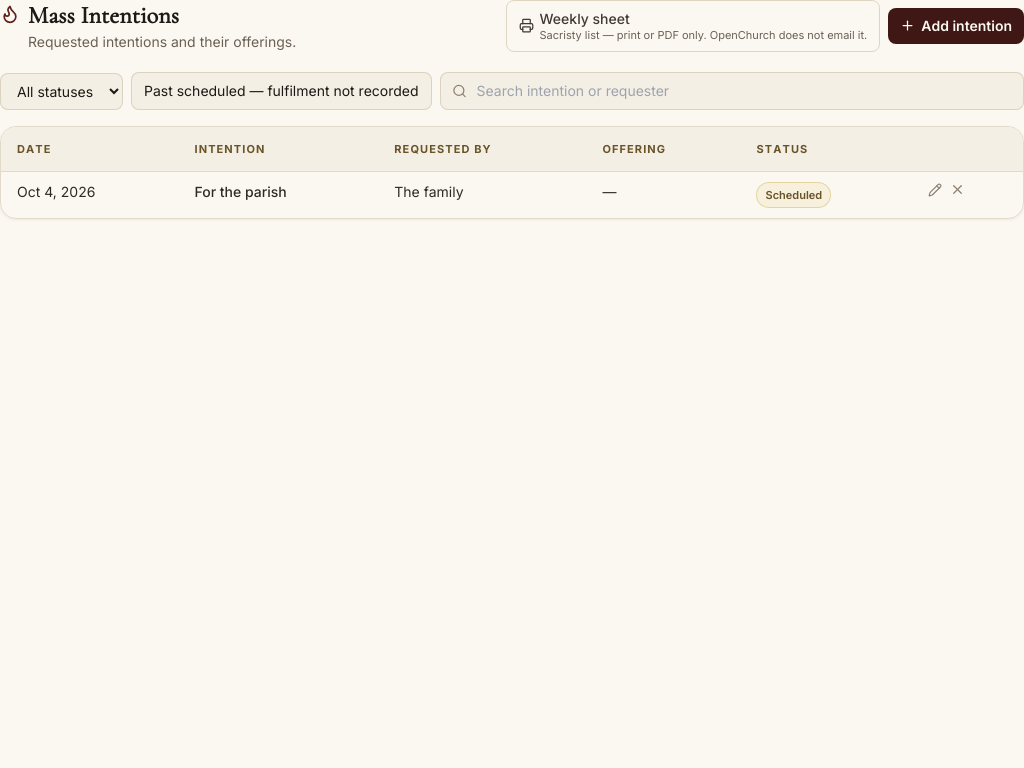
Assign dropdown follows the Mass date › a 409 says the date was not the Mass and that nothing was saved
The image size is (1024, 768).
What coordinates should you click on to do the following:
click the button named "edit intention"
I would click on:
 (935, 190)
Its box is [928, 182, 942, 196].
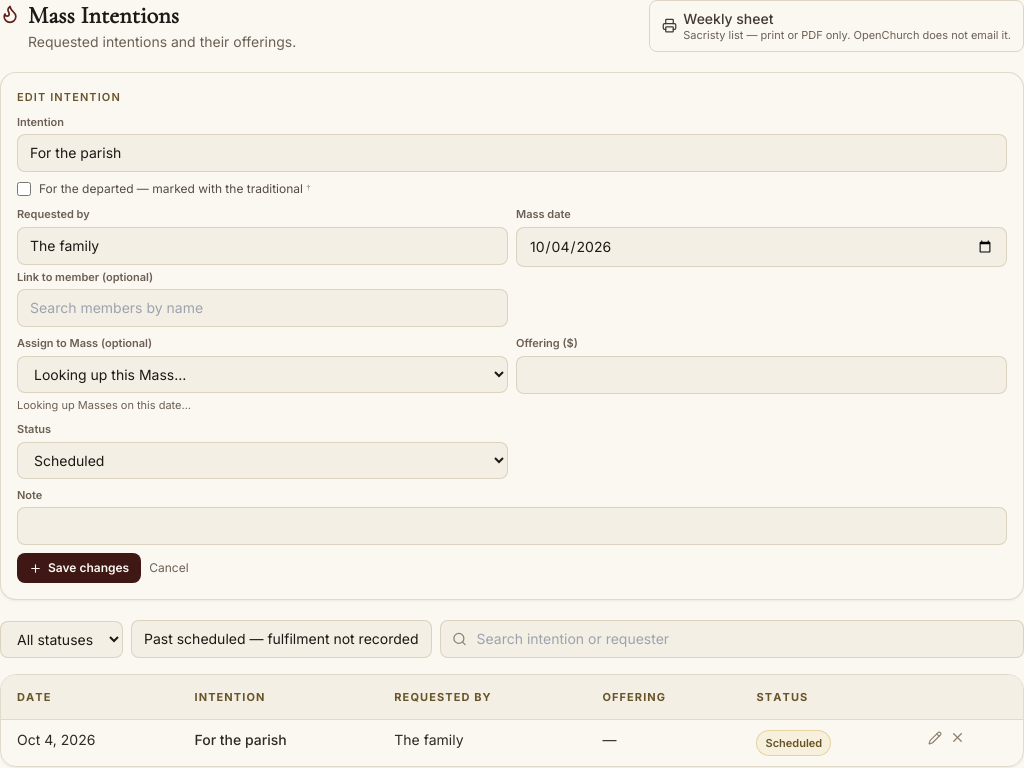
Now the dropdown labelled "Assign to Mass (optional)" shows "Looking up this Mass…", box [17, 356, 508, 392]
What coordinates should you click on to do the following:
click the button "Save changes"
I would click on:
 (79, 568)
Its box is [17, 553, 141, 583].
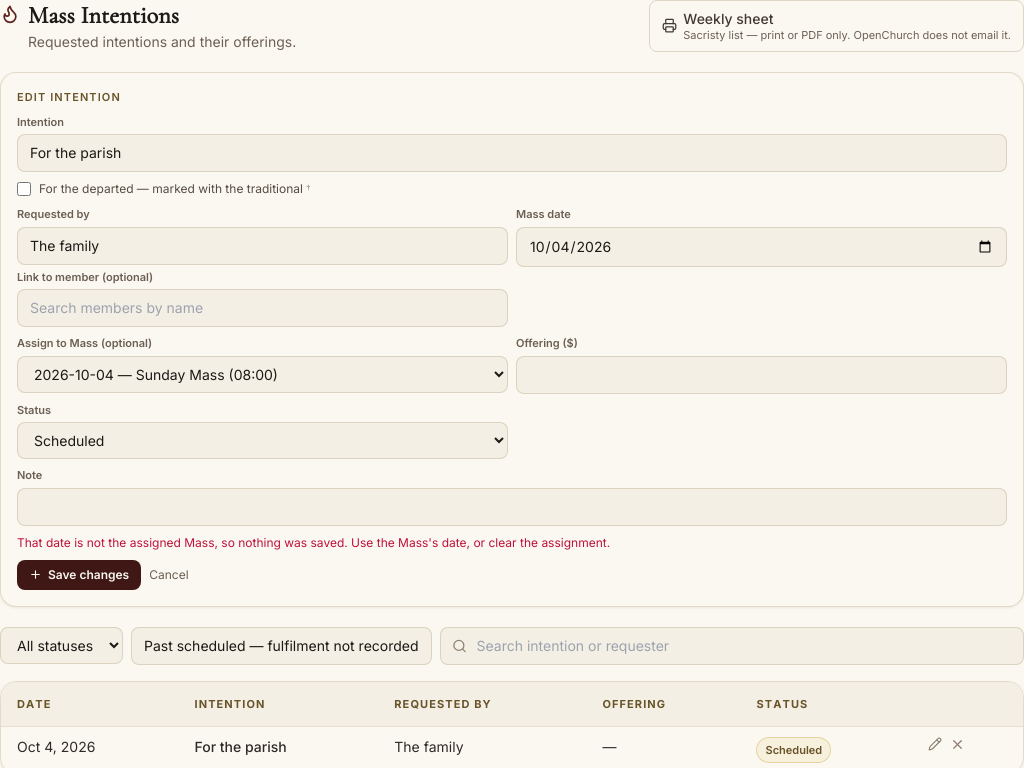
Now the field labelled "Intention" is shown, box [17, 134, 1007, 172]
Now the message shows "nothing was saved", box [17, 534, 610, 550]
